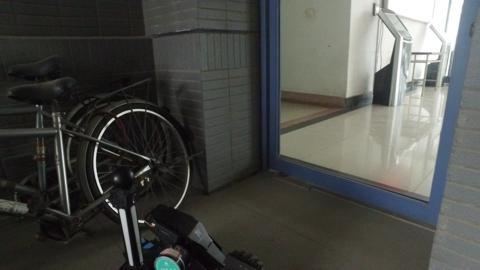bike: (2, 75, 201, 219)
chariot: (101, 166, 265, 269)
